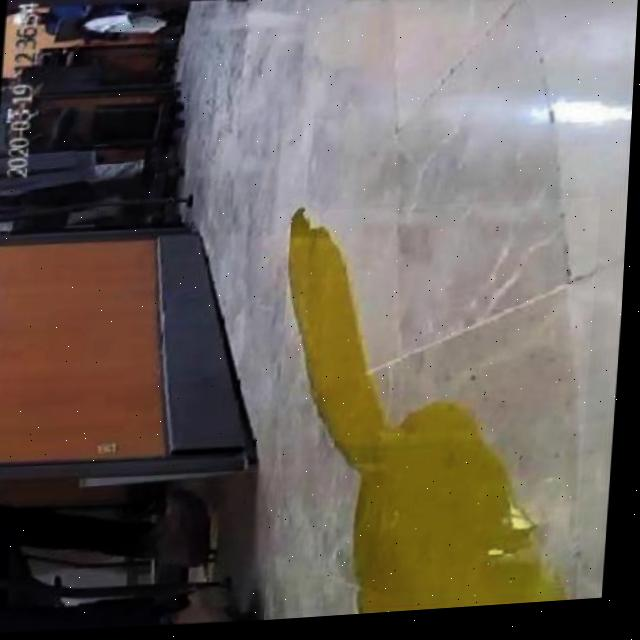spillage: (293, 215, 579, 619)
